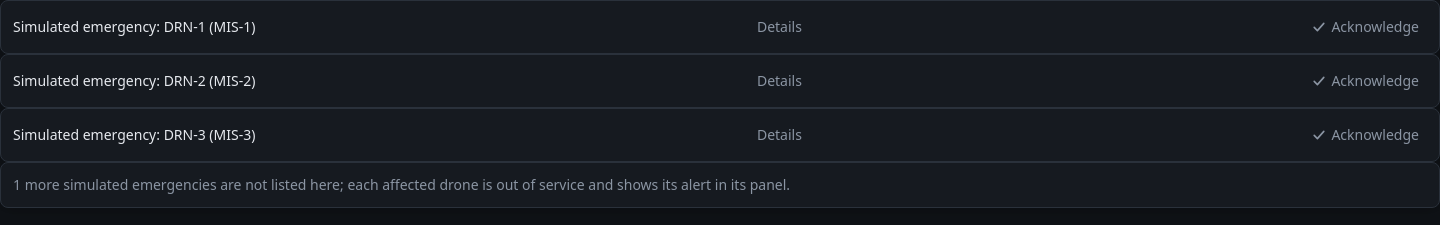
Test case: LiveDataNotices acknowledgement › brings the next hidden alert up once one is acknowledged
expect the text "DRN-4 (MIS-4)" is not shown: met
Click the button with aria-label "Acknowledge emergency for DRN-1". click: coordinates (1365, 27)
box: [1303,7,1427,47]
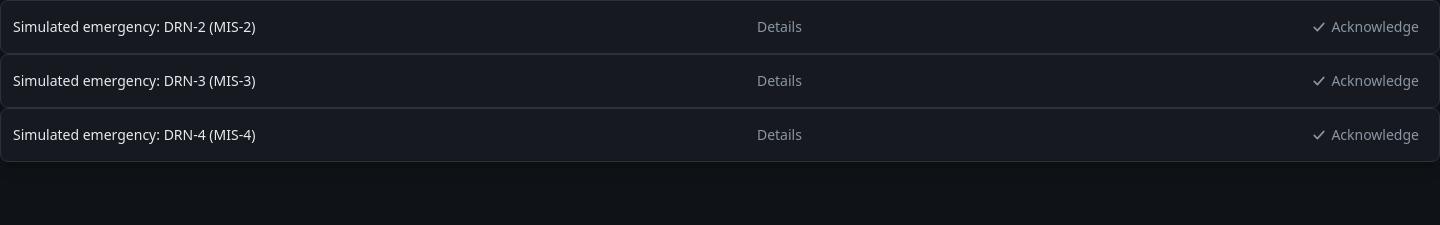
expect the text "Simulated emergency: DRN-4 (MIS-4)" is shown: met, box [13,125,255,145]
expect the text "more simulated emergencies" is gone: met
